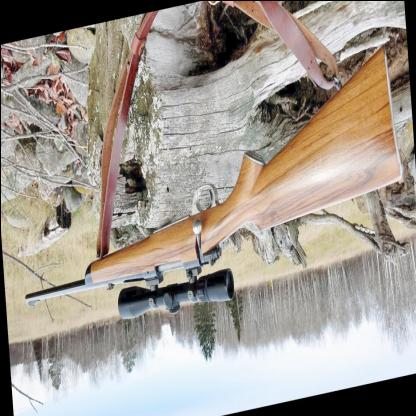rifle: (13, 43, 410, 344)
